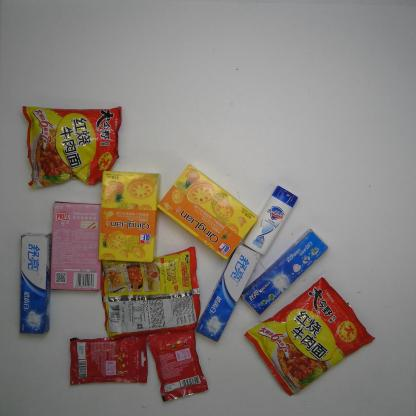Candy: (146, 319, 212, 405), (68, 333, 150, 388)
Dessert: (156, 168, 261, 260), (96, 167, 163, 264), (46, 200, 104, 294)
Instant Noodles: (240, 276, 374, 400), (96, 244, 204, 340), (21, 102, 128, 191)
Personal Hygiene: (240, 229, 329, 318), (191, 244, 262, 344), (242, 184, 300, 255), (18, 232, 54, 338)
